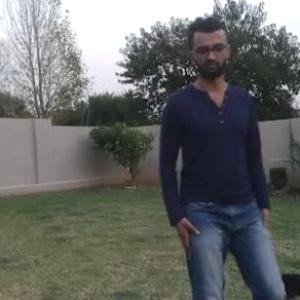follow: (165, 17, 263, 299)
